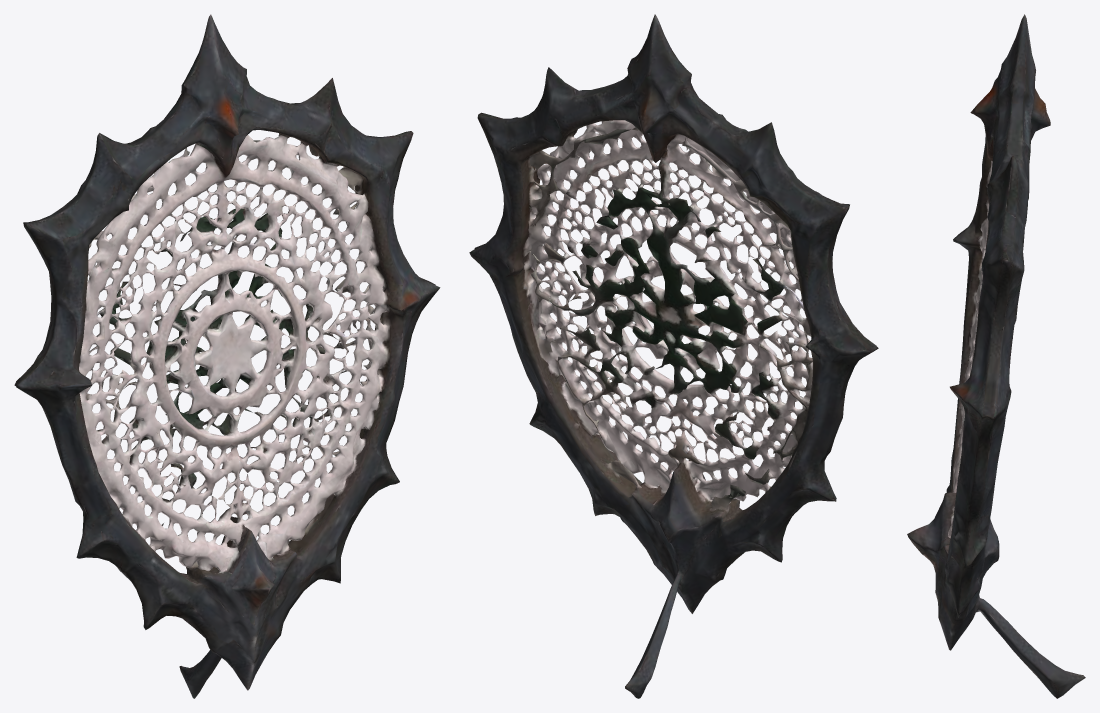
Rendered from agatha_reinforced.glb.
The picture shows the model from 3 angles, left to right: view 1: azimuth 30°, elevation 25°; view 2: azimuth 150°, elevation 25°; view 3: azimuth 270°, elevation 25°; orthographic projection. The views are drawn at different scales.
Size of the model in its own units: 0.6164 by 0.9743 by 0.2305.
Materials: 1 (1 with a texture image).
